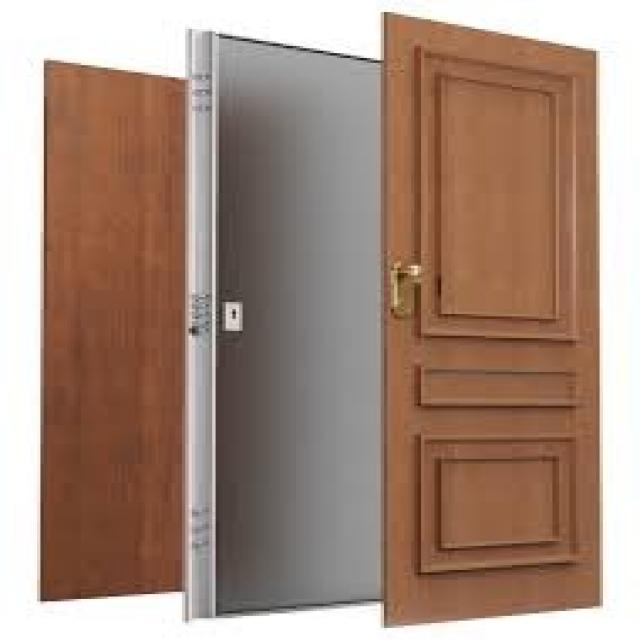door: (381, 11, 603, 627)
